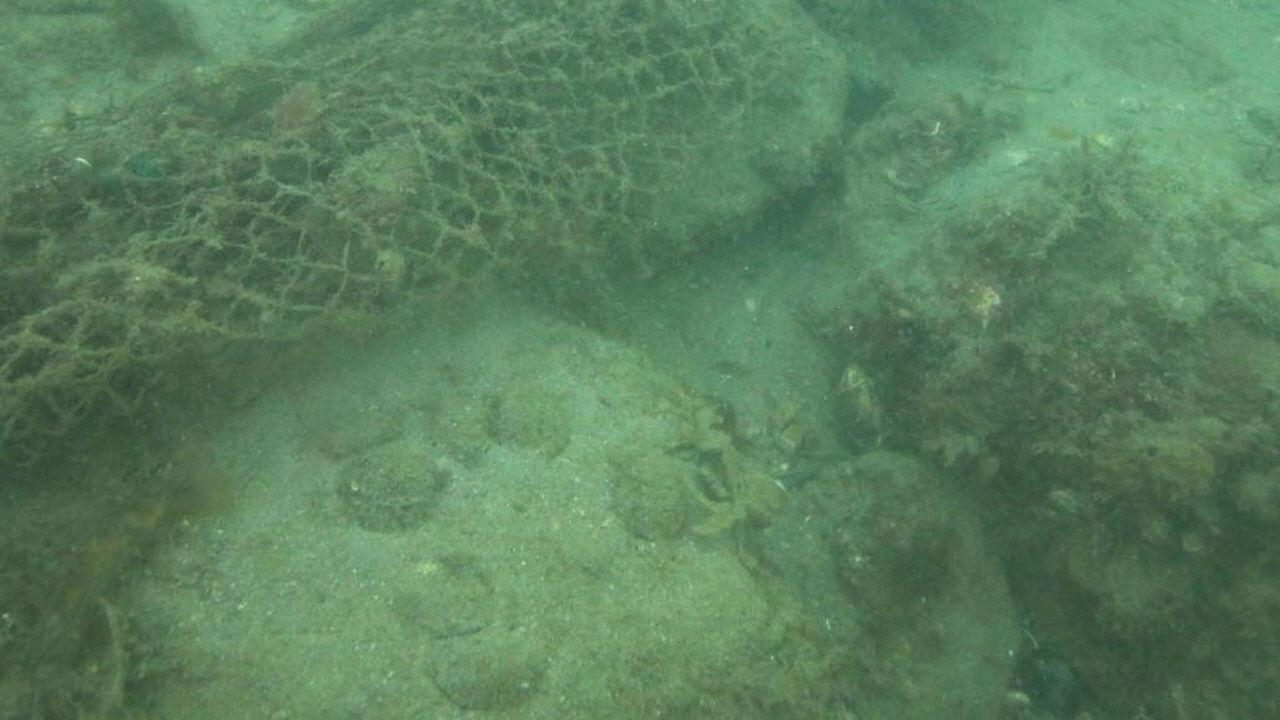fish net: (0, 0, 787, 467)
